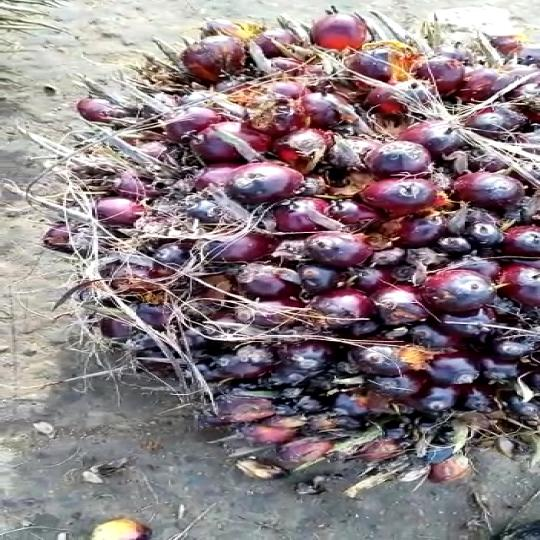masak: (41, 9, 540, 501)
